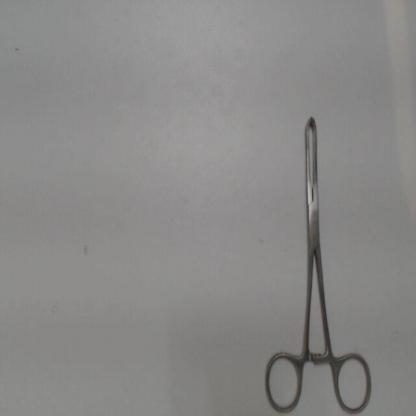Allis Tissue Forceps: (260, 102, 378, 414)
